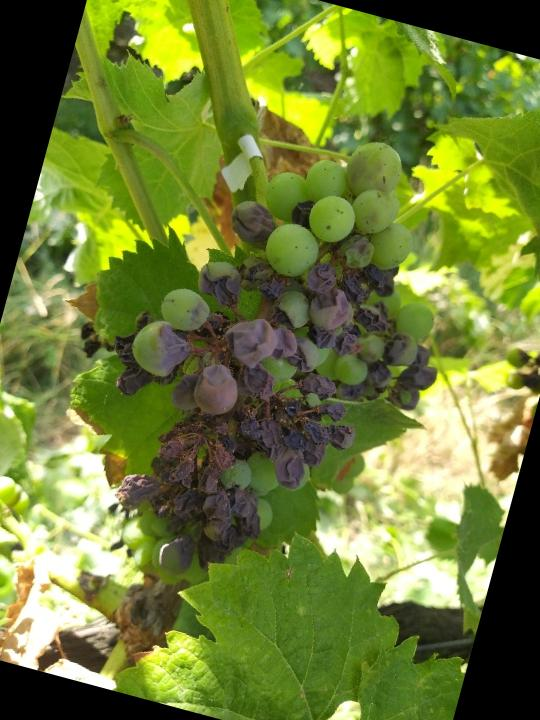grape: (52, 87, 494, 639)
